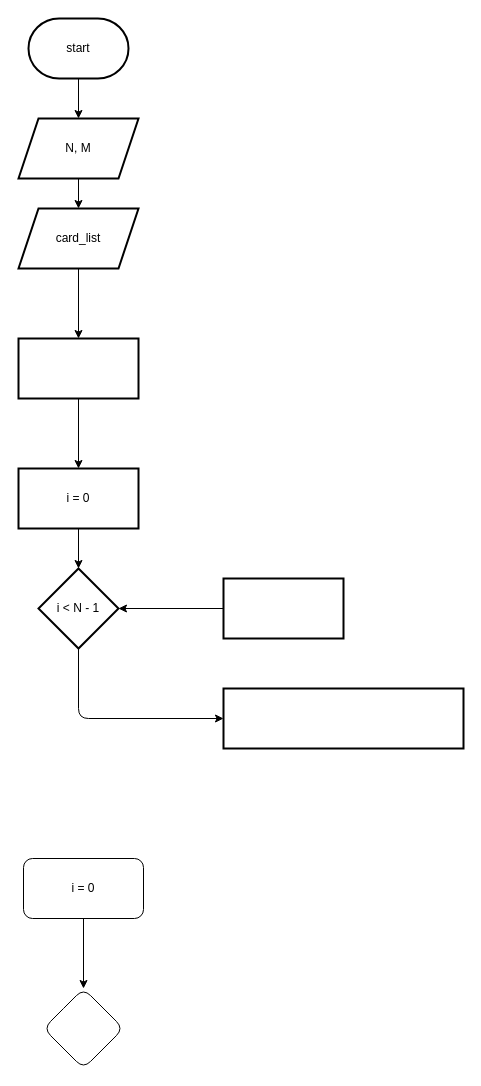
The diagram is 481 pixels wide and 1086 high, and some of its shapes have lost their labels. Each missing label, with the centre of its shape:
i += 0: point 283,608
sum_list = []: point 78,368
two_numbers = card_list[i] + card_list[i+1]: point 343,718
